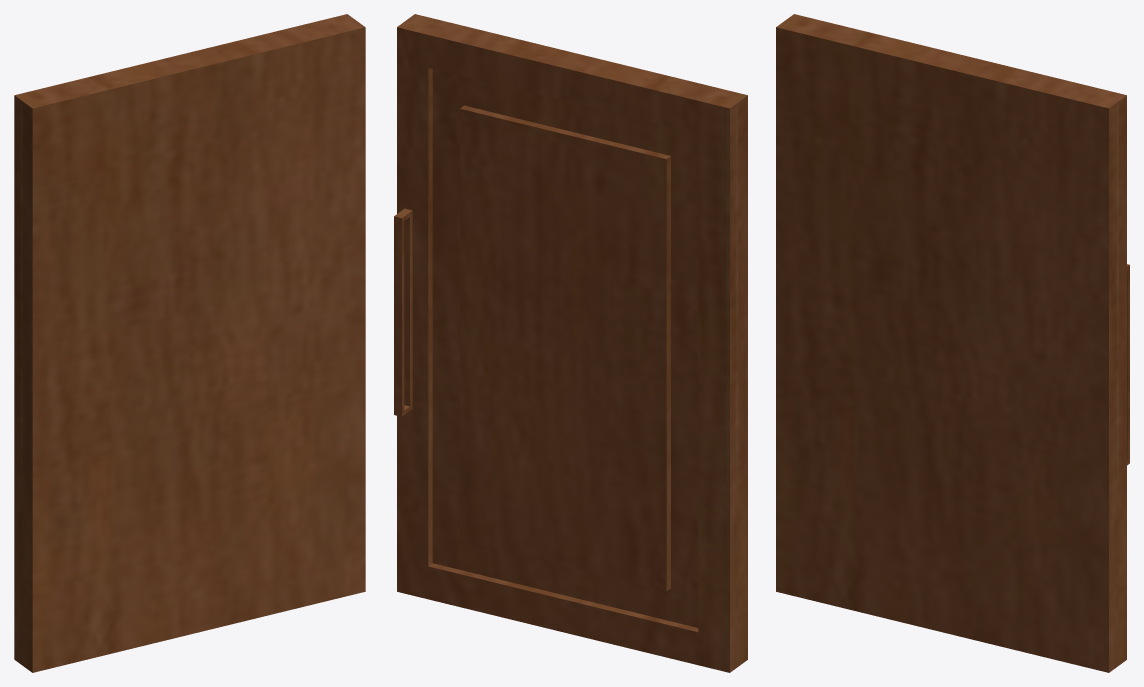
File: door.obj
The picture shows the model from 3 angles, left to right: view 1: azimuth 30°, elevation 25°; view 2: azimuth 150°, elevation 25°; view 3: azimuth 330°, elevation 25°; orthographic projection.
Parts seen in each view (by area): view 1: group_3; view 2: group_3, group_3.001; view 3: group_3.
Boxes of the visible parts, x1=… form: group_3: x1=14, y1=14, x2=365, y2=672; group_3: x1=394, y1=14, x2=747, y2=672; group_3.001: x1=460, y1=105, x2=670, y2=591; group_3: x1=776, y1=14, x2=1129, y2=672.
Bounding box in the file's own units: 0.4842 × 0.7842 × 0.0726.
Materials: 1 (1 with a texture image).
